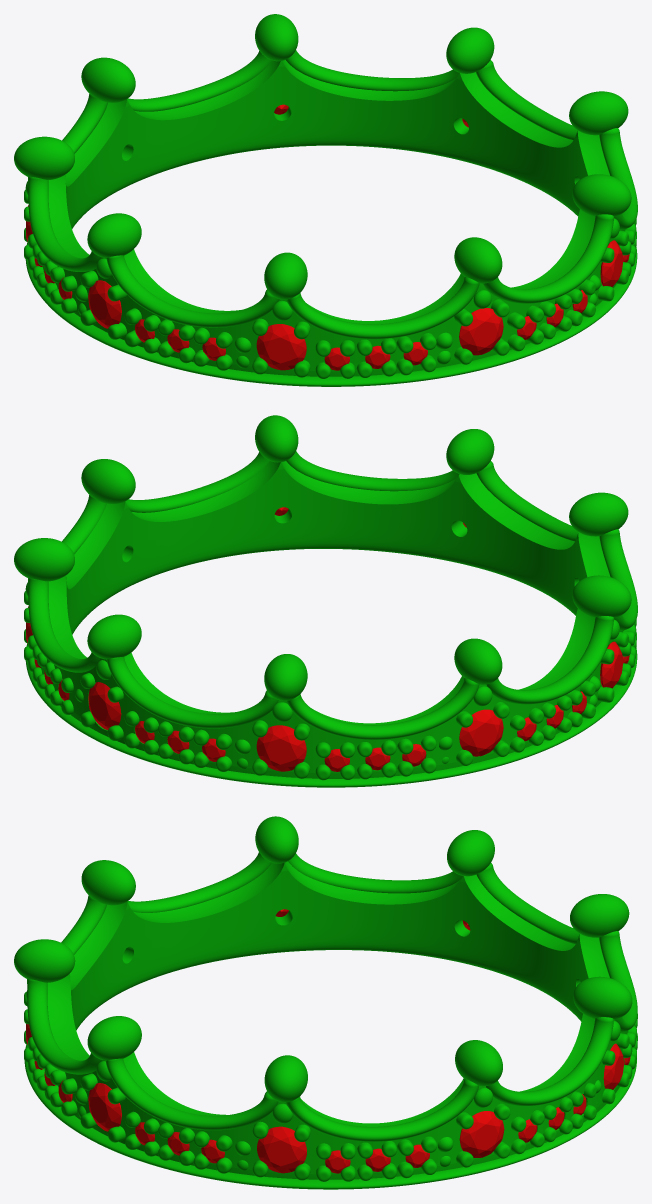
The picture shows the model from 3 angles, top to bottom: view 1: azimuth 30°, elevation 25°; view 2: azimuth 150°, elevation 25°; view 3: azimuth 270°, elevation 25°; orthographic projection.
Parts seen in each view (by area): view 1: Corona con diamantes.3dm; view 2: Corona con diamantes.3dm; view 3: Corona con diamantes.3dm.
Part boxes in pixels (x1=…): Corona con diamantes.3dm: x1=14, y1=14, x2=637, y2=386; Corona con diamantes.3dm: x1=14, y1=415, x2=637, y2=787; Corona con diamantes.3dm: x1=14, y1=816, x2=637, y2=1189.
Size of the model in its own units: 2.8 by 0.6101 by 2.79.
